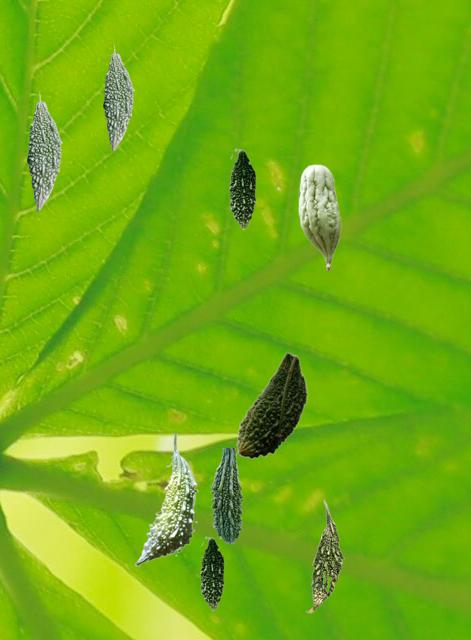ampalaya: (135, 433, 197, 565), (236, 352, 307, 458), (298, 164, 340, 270), (306, 499, 343, 612), (27, 91, 61, 210), (103, 44, 133, 150), (210, 448, 242, 542), (229, 148, 257, 229), (200, 536, 225, 610)
